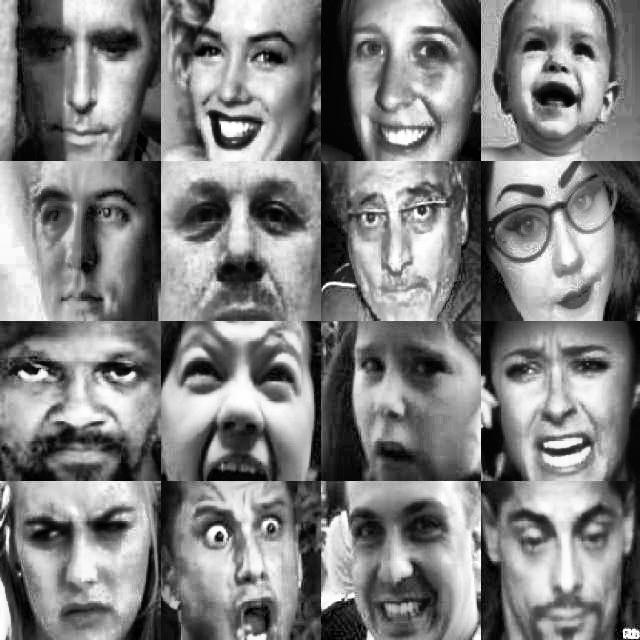angry: (493, 333, 625, 476), (18, 492, 146, 634), (25, 12, 147, 154)
fear: (171, 330, 303, 479), (185, 491, 303, 640), (342, 171, 460, 314), (348, 334, 464, 474)
happy: (181, 15, 303, 157), (344, 490, 461, 638), (345, 18, 463, 156)
neutral: (8, 332, 152, 474), (177, 171, 308, 319), (491, 166, 622, 314), (26, 176, 142, 314)
sad: (501, 493, 619, 639), (509, 15, 605, 132)
